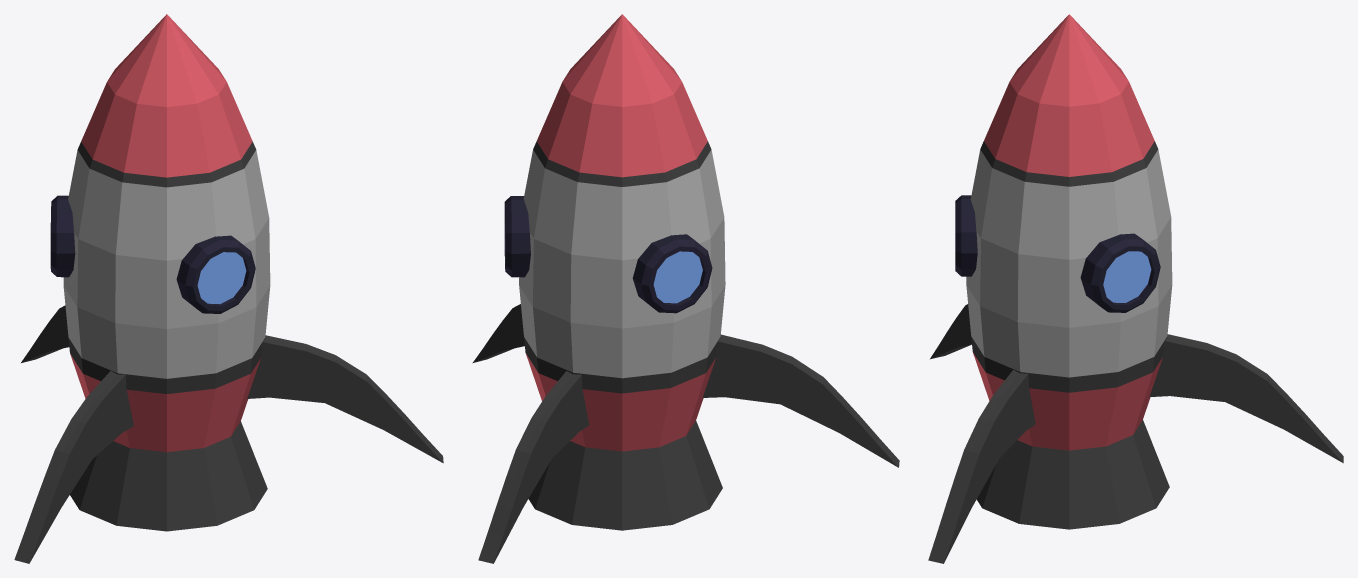
The model's file is spaceship.glb.
3 views of the same model, side by side, from view 1: azimuth 30°, elevation 25°; view 2: azimuth 150°, elevation 25°; view 3: azimuth 270°, elevation 25° (orthographic).
Visible parts, largest first — view 1: Cube; view 2: Cube; view 3: Cube.
Part boxes in pixels (x1,y1,x2,y2): Cube: (14, 14, 443, 563); Cube: (472, 14, 899, 563); Cube: (928, 14, 1343, 563).
Size of the model in its own units: 4.24 by 4.49 by 3.57.
Materials: 1 (1 with a texture image).
